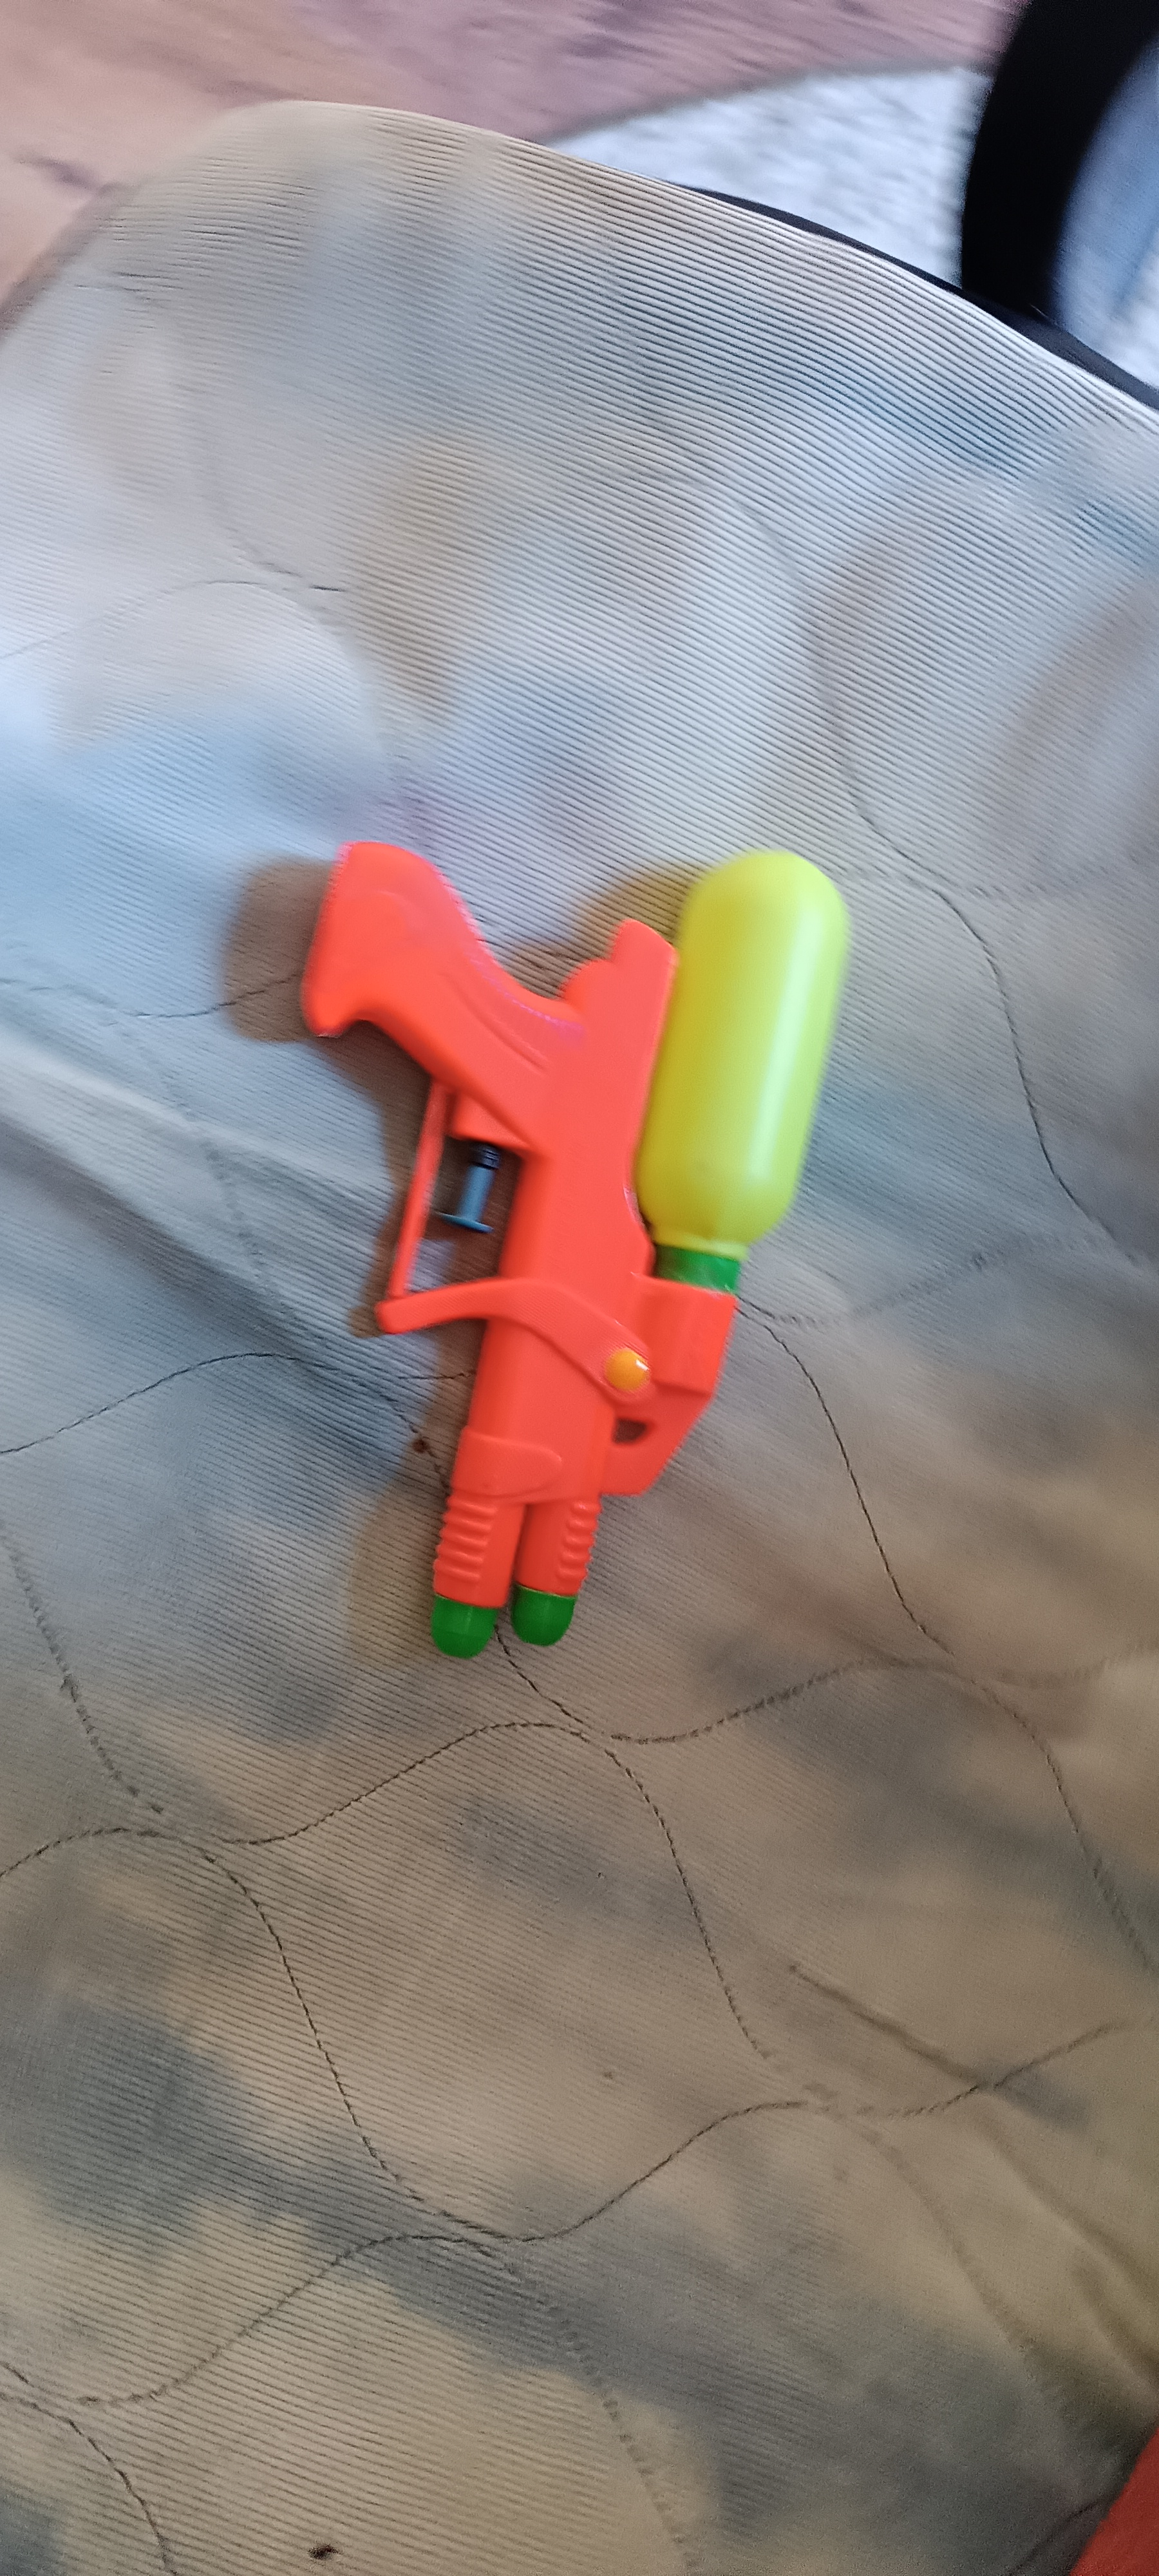Water Gun: (299, 836, 854, 1658)
